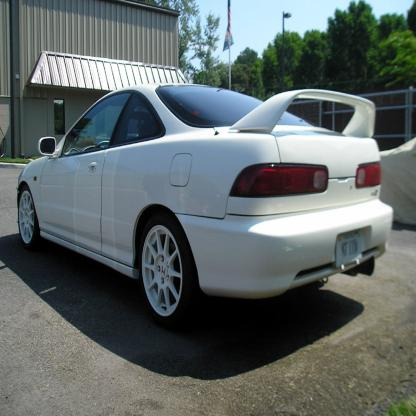Vehicle: (17, 83, 392, 328)
